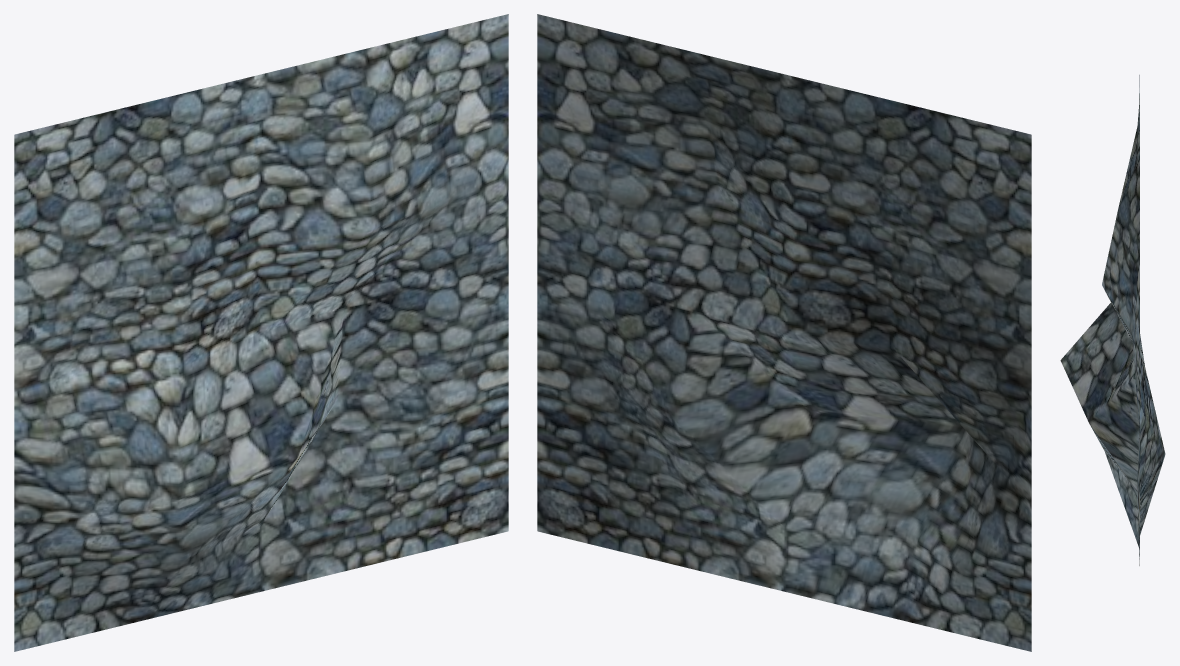
Rendered from ground_1.obj.
The picture shows the model from 3 angles, left to right: view 1: azimuth 30°, elevation 25°; view 2: azimuth 150°, elevation 25°; view 3: azimuth 270°, elevation 25°; orthographic projection. The views are drawn at different scales.
Size of the model in its own units: 2 by 2 by 0.4376.
